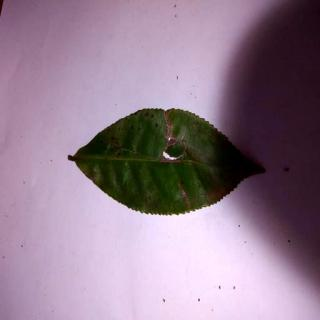Bird Eye Spot: (70, 107, 265, 217)
